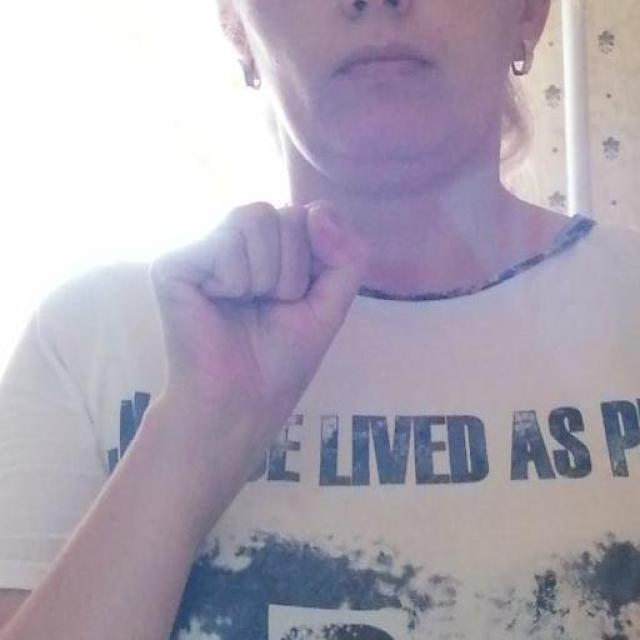hand: (148, 196, 372, 436)
